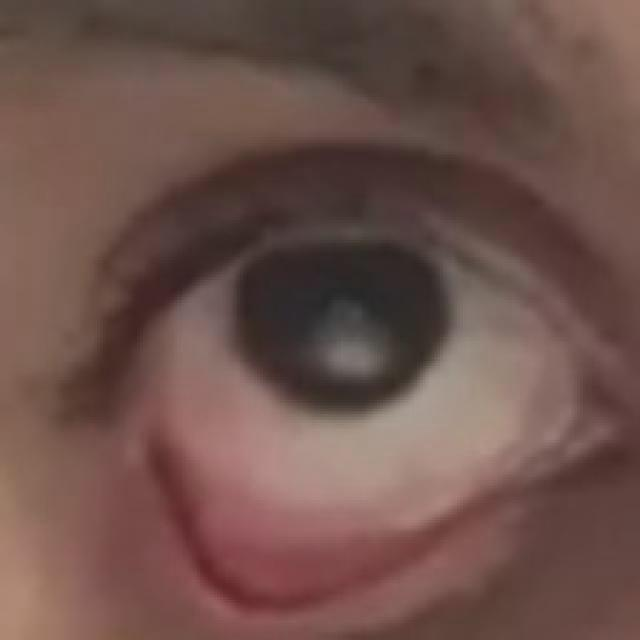conjunctiva_pallor: (150, 434, 515, 615)
